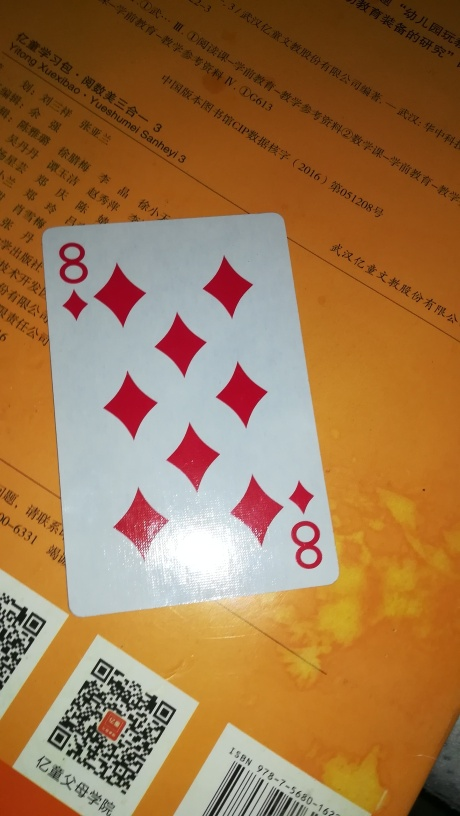fk 8: (41, 214, 340, 617)
